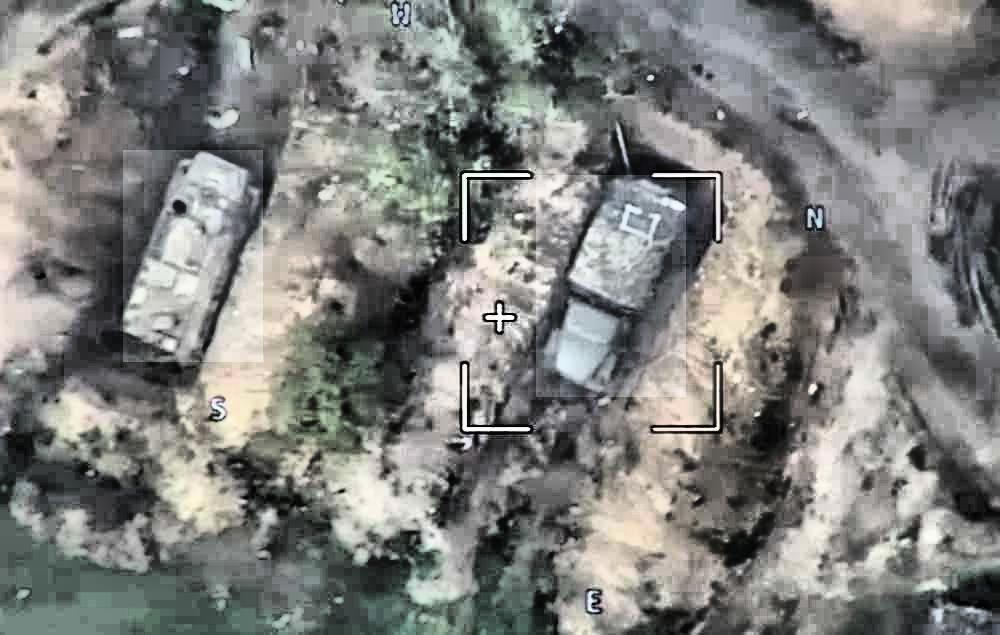military-vehicle: (536, 175, 686, 397), (123, 150, 263, 362)
